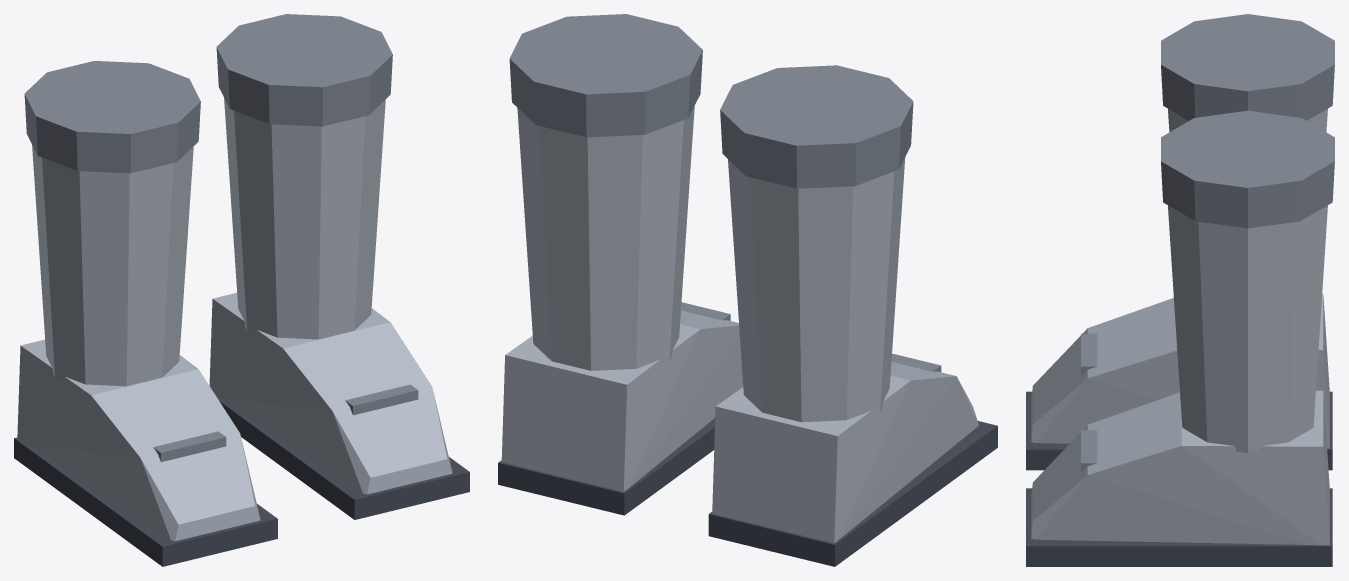
File: drop_steel_boots.glb
3 renders of one model, left to right at view 1: azimuth 30°, elevation 25°; view 2: azimuth 150°, elevation 25°; view 3: azimuth 270°, elevation 25°, orthographic. The views are drawn at different scales.
Parts seen in each view (by area): view 1: drop_steel_boots; view 2: drop_steel_boots; view 3: drop_steel_boots.
Part boxes in pixels (<box>): drop_steel_boots: <box>14,14,469,566</box>; drop_steel_boots: <box>498,14,997,566</box>; drop_steel_boots: <box>1026,14,1334,566</box>.
Size of the model in its own units: 0.216 by 0.225 by 0.1621.
